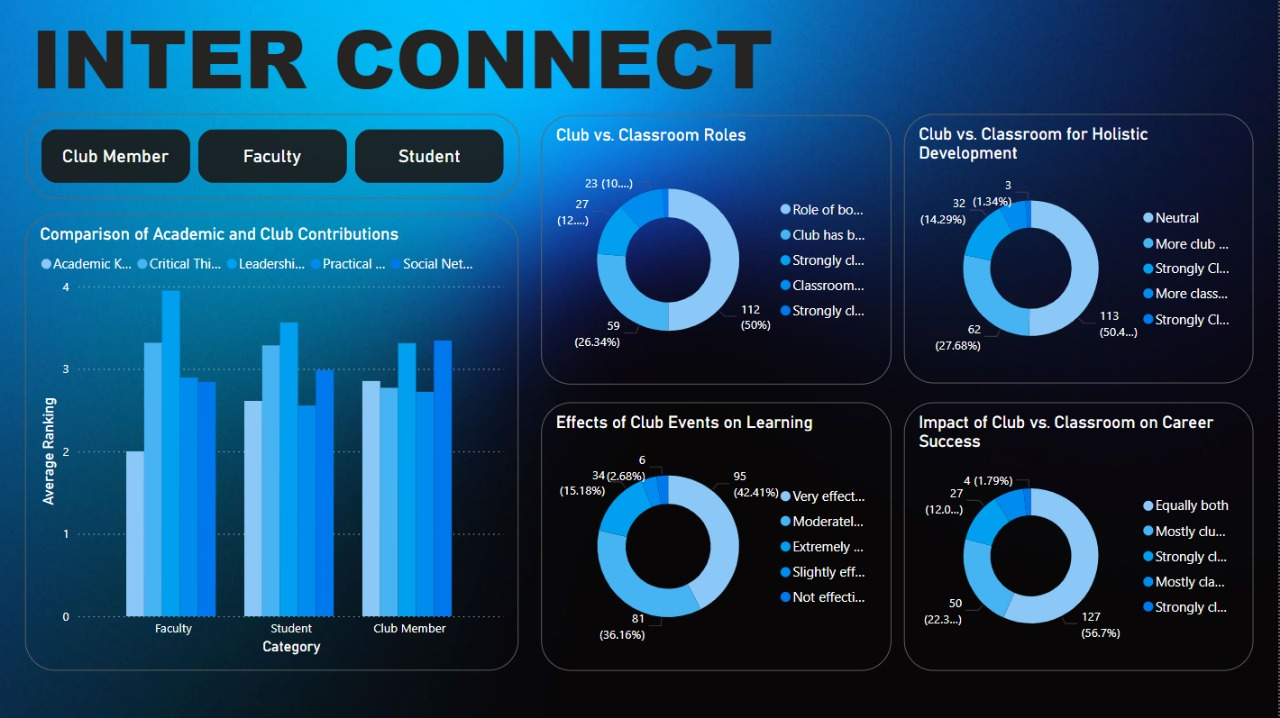

The page's visual inventory and layout, read from the dashboard file:
{"tool":"powerbi","page":{"name":"Page 5","canvas":[1280,720],"ordinal":0},"visuals":[{"type":"clusteredColumnChart","title":"Comparison of Academic and Club Contributions","fields":{"Y":["Avg(3-Way Overview.AcademicKnowledge_in_Class)","Avg(3-Way Overview.CriicalThinking_in_Class)","Avg(3-Way Overview.LeadershipTeamwork_in_Club)","Avg(3-Way Overview.PracticalSkills_through_Club)","Avg(3-Way Overview.SocialNetworking_in_Club)"],"Category":["3-Way Overview.Category"]},"box":[26.1,215.2,493.9,456.5],"z":0},{"type":"advancedSlicerVisual","fields":{"Values":["3-Way Overview.Category"]},"box":[27.4,114.4,493.9,84.6],"z":1000},{"type":"donutChart","title":"Club vs. Classroom Roles","fields":{"Category":["3-Way Overview.ClubVsClassRole"],"Y":["CountNonNull(3-Way Overview.ClubVsClassRole)"]},"box":[542.4,115.7,350.8,269.9],"z":2000},{"type":"donutChart","title":"Club vs. Classroom for Holistic Development","fields":{"Category":["3-Way Overview.ClubVsClass_for_HD"],"Y":["CountNonNull(3-Way Overview.ClubVsClass_for_HD)"]},"box":[905.6,114.4,349.6,269.9],"z":3000},{"type":"donutChart","title":"Effects of Club Events on Learning","fields":{"Category":["3-Way Overview.Effect_of_ClubEvents_in_Learning"],"Y":["CountNonNull(3-Way Overview.Effect_of_ClubEvents_in_Learning)"]},"box":[542.4,403,350.8,268.7],"z":4000},{"type":"donutChart","title":"Impact of Club vs. Classroom on Career Success","fields":{"Category":["3-Way Overview.ImpactOnCS_ClubVsClass"],"Y":["CountNonNull(3-Way Overview.ImpactOnCS_ClubVsClass)"]},"box":[905.6,403,349.6,268.7],"z":5000},{"type":"textbox","title":"INTER CONNECT","box":[27.4,1.2,802.4,114.4],"z":6000}]}

Visuals, with their boxes in screenshot pixels (x1, y1, x2, y2), scaled from the page's 1280x720 canvas onto the 1280x718 screenshot:
"Comparison of Academic and Club Contributions" clusteredColumnChart: bbox(26, 215, 520, 670)
advancedSlicerVisual - 3-Way Overview.Category: bbox(27, 114, 521, 198)
"Club vs. Classroom Roles" donutChart: bbox(542, 115, 893, 385)
"Club vs. Classroom for Holistic Development" donutChart: bbox(906, 114, 1255, 383)
"Effects of Club Events on Learning" donutChart: bbox(542, 402, 893, 670)
"Impact of Club vs. Classroom on Career Success" donutChart: bbox(906, 402, 1255, 670)
"INTER CONNECT" textbox: bbox(27, 1, 830, 115)
